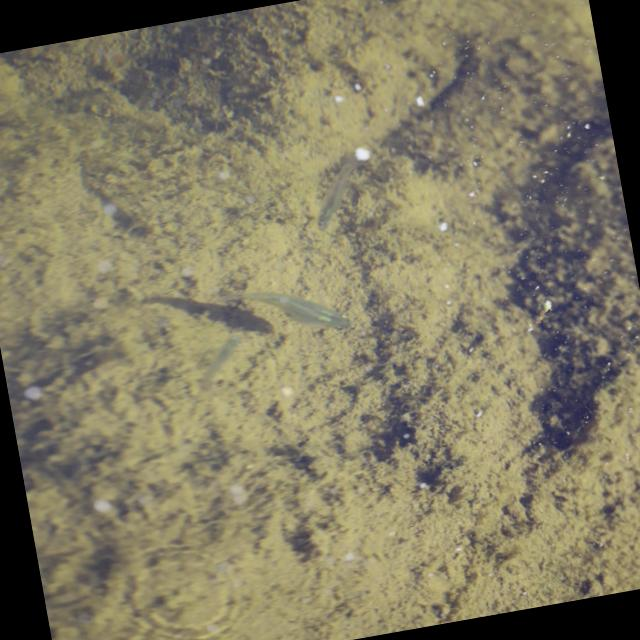Sivrisinek Baligi: (221, 270, 355, 350), (294, 152, 370, 232)
